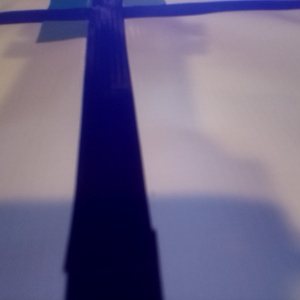bottom_left: (36, 9, 122, 42)
top_left: (47, 1, 123, 19)
top_right: (93, 1, 166, 16)
